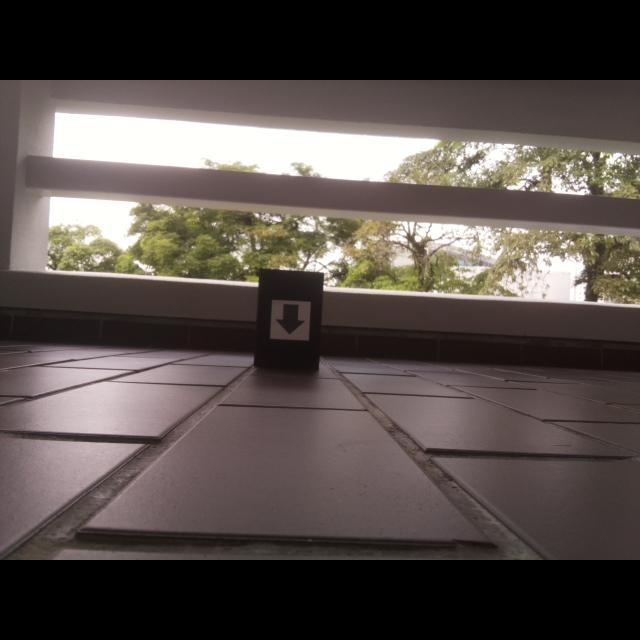DOWN: (274, 303, 306, 337)
